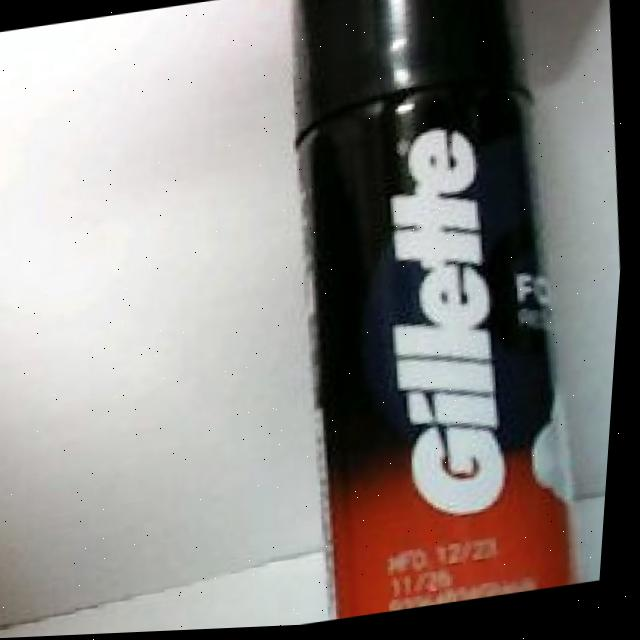gillette-foam: (293, 0, 581, 623)
